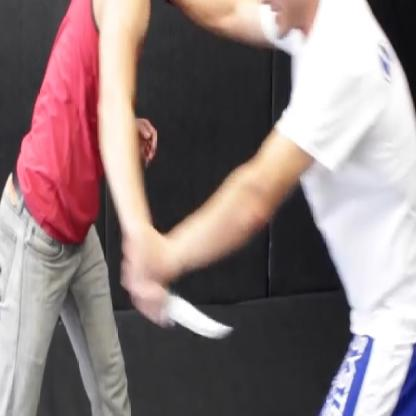knife: (112, 250, 241, 354)
